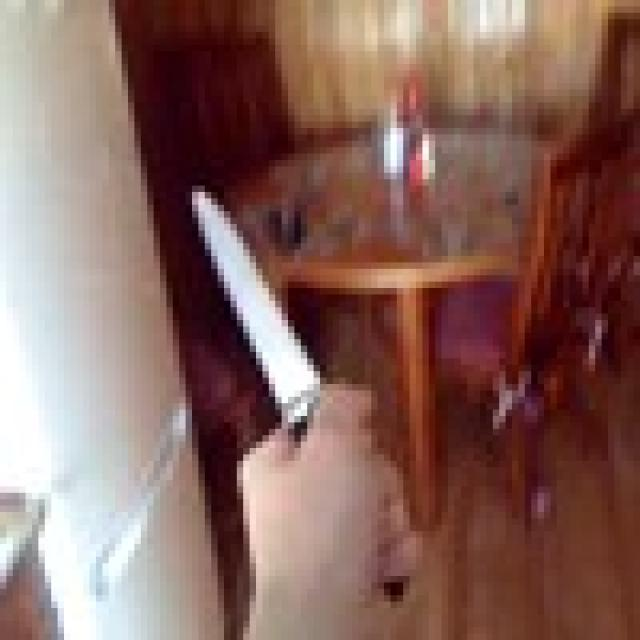Knife: (186, 179, 403, 589)
